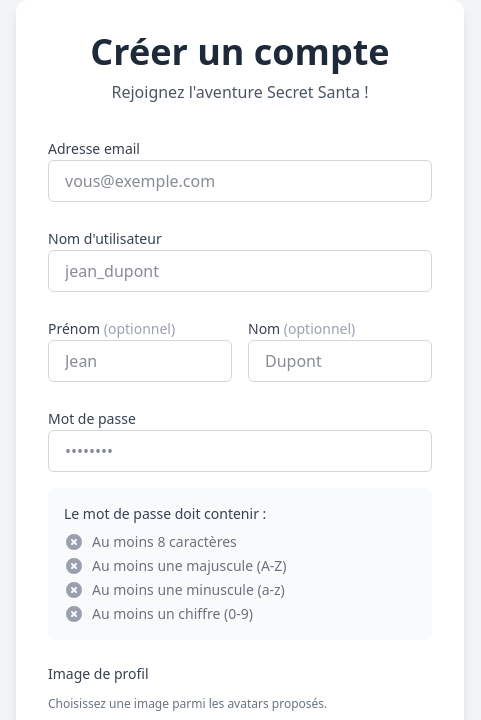
Test case: Auth pages › shows signup validation errors from API
Type "bad@example.com" into the field labelled "Adresse email" at (240, 181), box [48,160,432,202]
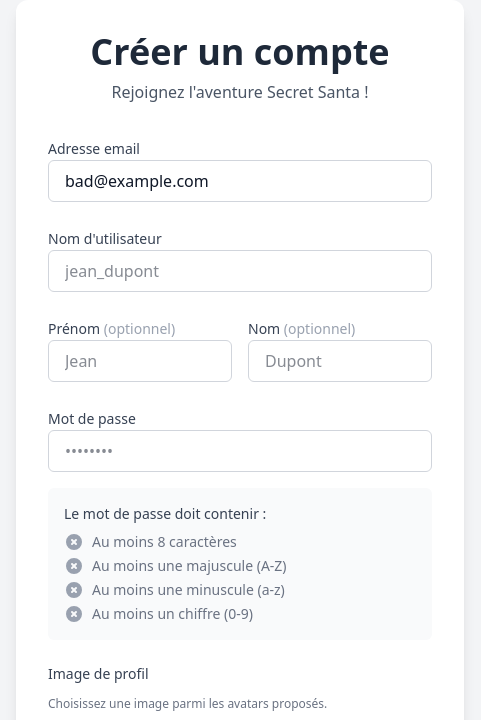
Type "bad_user" into the field labelled "Nom d'utilisateur" at (240, 271), box [48,250,432,292]
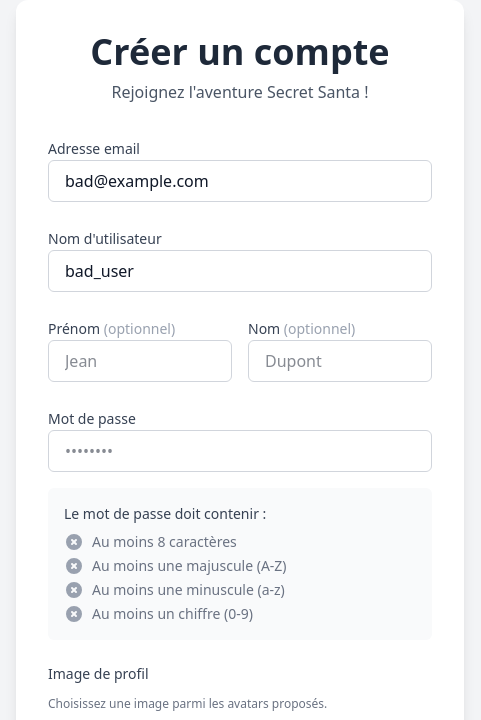
Type "Password123" into the password field labelled "Mot de passe" at (240, 451), box [48,430,432,472]
(page scrolled)
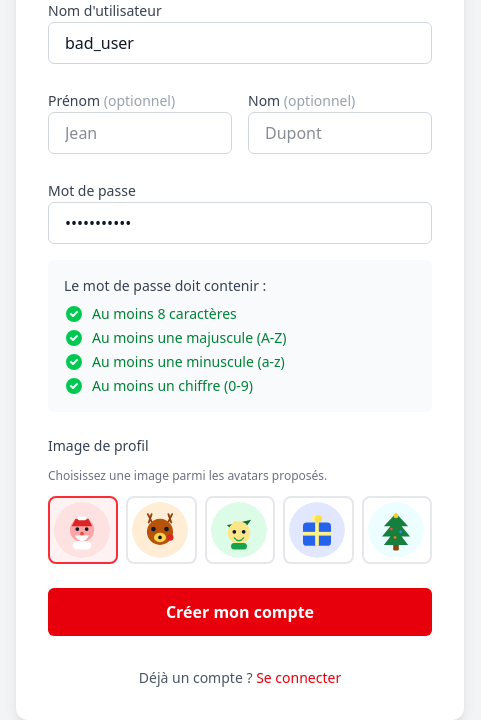
Click the radio button named "Avatar 2" at (162, 530), box [126,496,197,564]
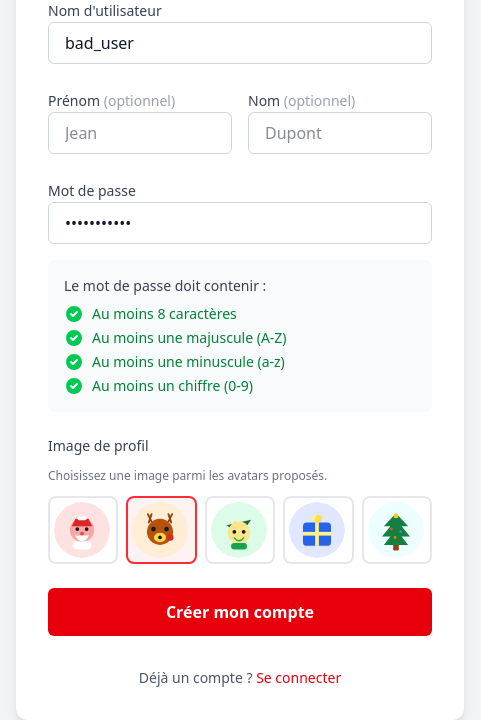
Click the button "Créer mon compte" at (240, 612), box [48,588,432,636]
(page scrolled)
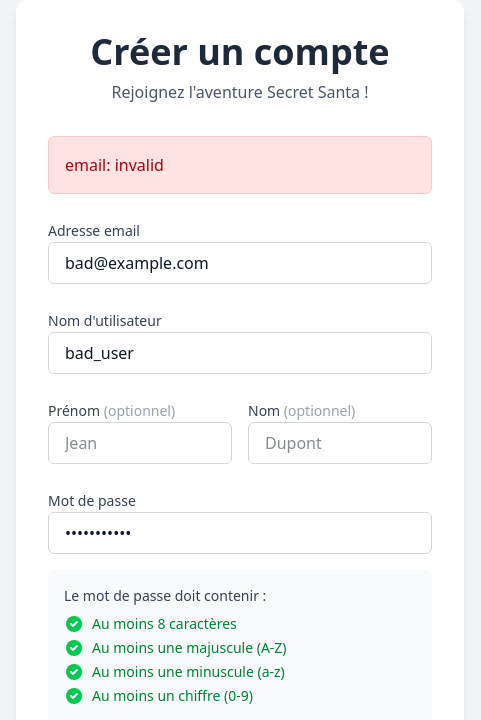
Result: the text "email: invalid" is shown at [48,136,432,194]
